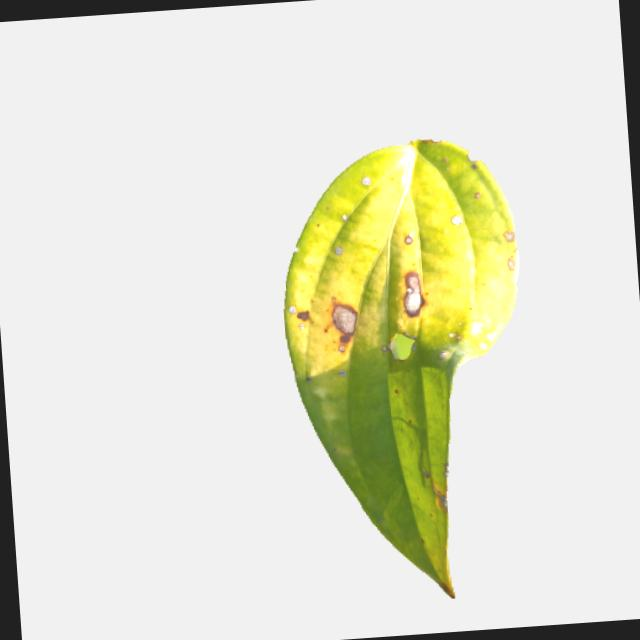leaf-blight: (270, 134, 557, 608)
